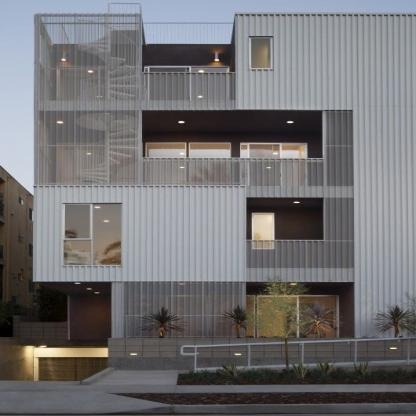Balcony: (142, 158, 323, 187), (108, 3, 235, 44), (246, 241, 352, 268), (141, 72, 235, 100), (246, 339, 356, 357)
Building Outline: (0, 3, 416, 386)
Door: (145, 67, 229, 108), (241, 145, 306, 187), (38, 359, 112, 386)
Facade: (0, 3, 416, 386)
Floor Slab: (109, 357, 416, 371), (53, 30, 231, 54), (34, 187, 416, 198), (33, 269, 354, 282), (34, 101, 416, 111)
Glass Wall: (258, 295, 338, 345), (127, 296, 207, 344), (63, 204, 121, 265), (212, 295, 255, 345), (190, 144, 230, 186), (147, 144, 185, 186), (253, 215, 272, 248)
Window: (142, 111, 324, 158), (246, 282, 356, 339), (246, 198, 323, 241), (249, 37, 272, 69)
